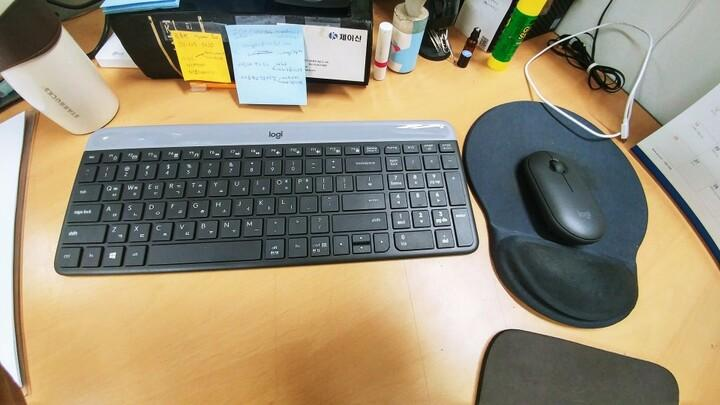keyboard: (53, 120, 479, 275)
mouse: (521, 149, 606, 245)
